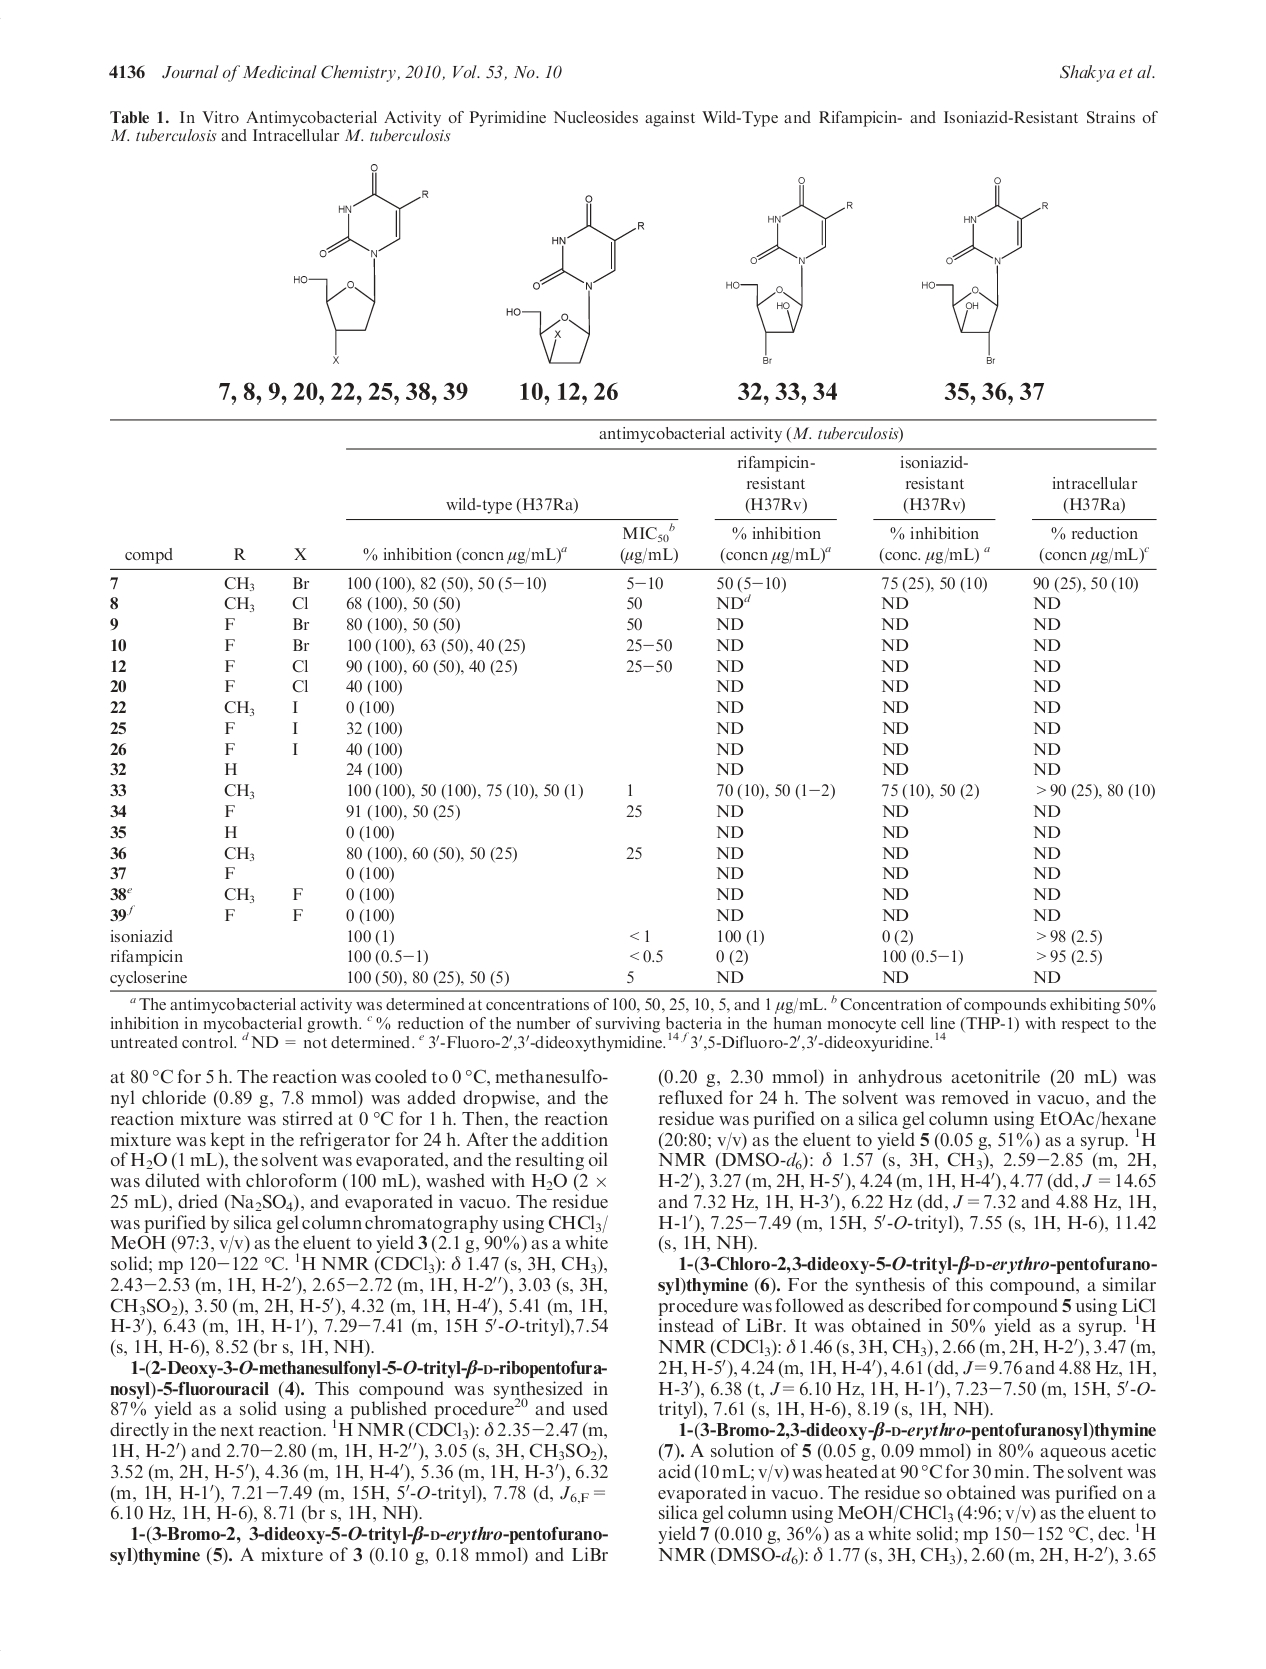exist_molecular: (281, 152, 438, 372), (501, 182, 649, 374), (718, 174, 856, 372), (916, 172, 1055, 368)
